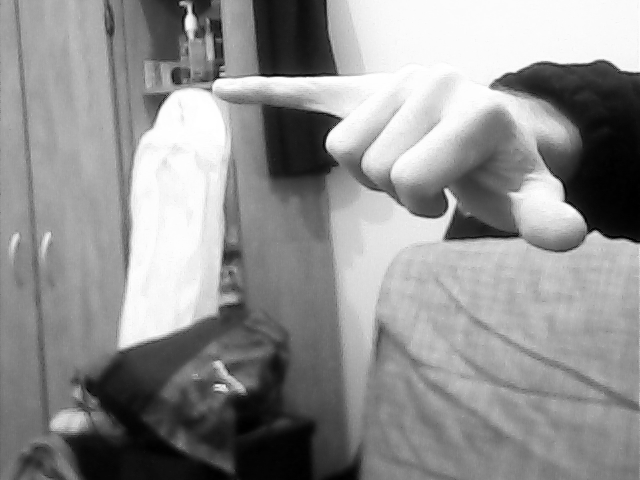aloha: (209, 48, 592, 257)
